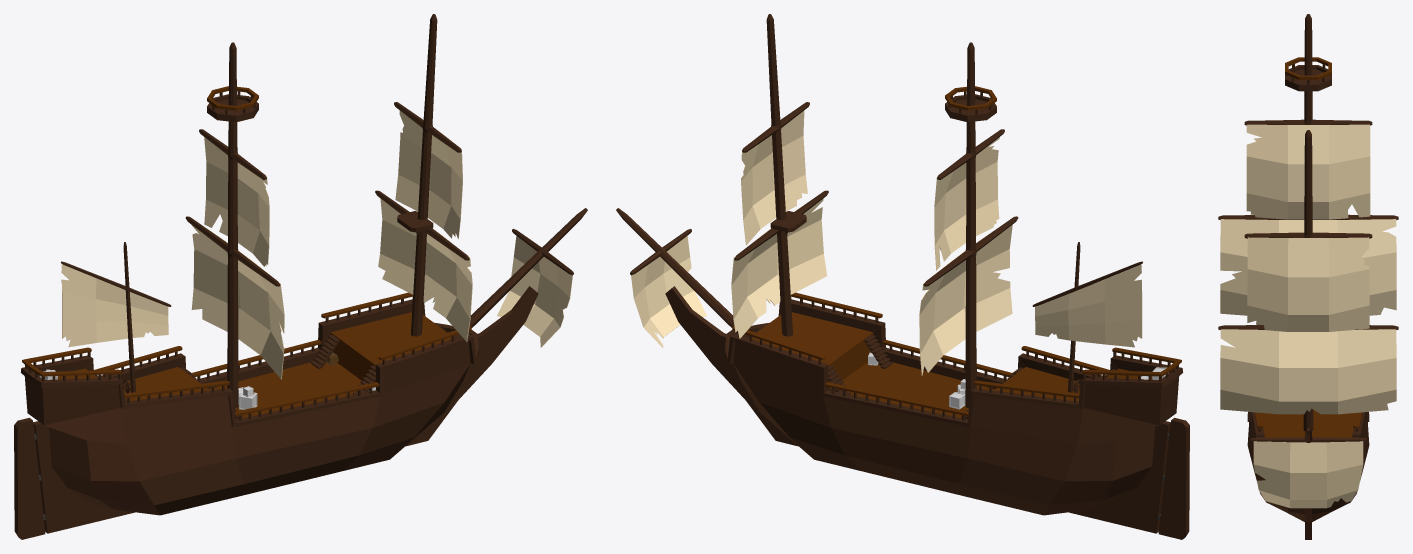
Rendered from Chest.fbx.
3 renders of one model, left to right at view 1: azimuth 30°, elevation 25°; view 2: azimuth 150°, elevation 25°; view 3: azimuth 270°, elevation 25°, orthographic. The views are drawn at different scales.
Visible parts, largest first — view 1: Cube.006, Cube.004; view 2: Cube.006, Cube.004; view 3: Cube.006, Cube.004, Cube.001.
Part boxes in pixels (x1,y1,x2,y2): Cube.006: (14, 14, 587, 539); Cube.004: (207, 91, 258, 122); Cube.006: (616, 14, 1189, 539); Cube.004: (945, 91, 996, 122); Cube.006: (1218, 14, 1398, 539); Cube.004: (1285, 64, 1331, 91); Cube.001: (1285, 57, 1331, 79).
Size of the model in its own units: 2581 by 6842 by 9222.
